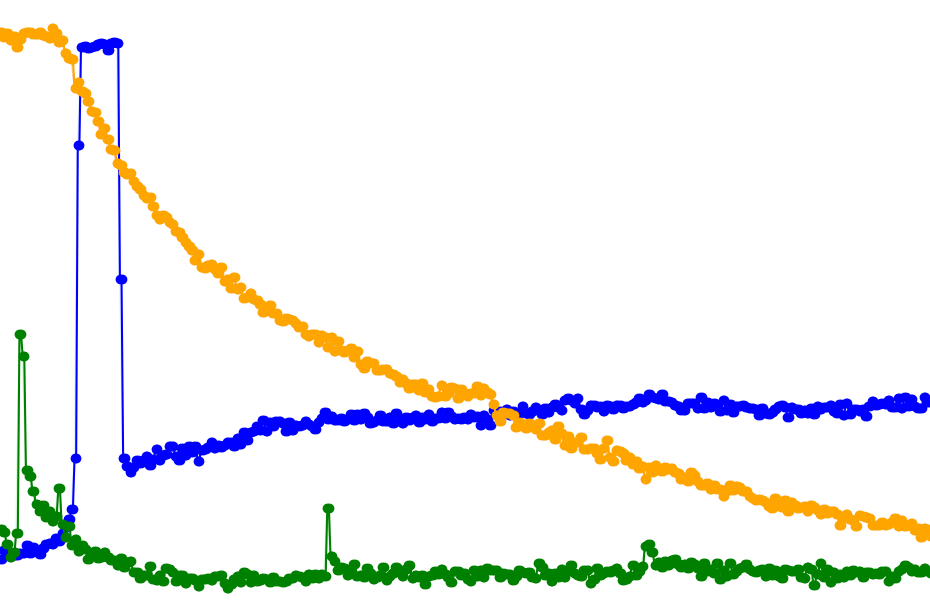Condensation (CO2): (77, 0, 116, 616)
Low O2: (738, 0, 930, 616)
Normal: (116, 0, 930, 616), (0, 0, 116, 616)
